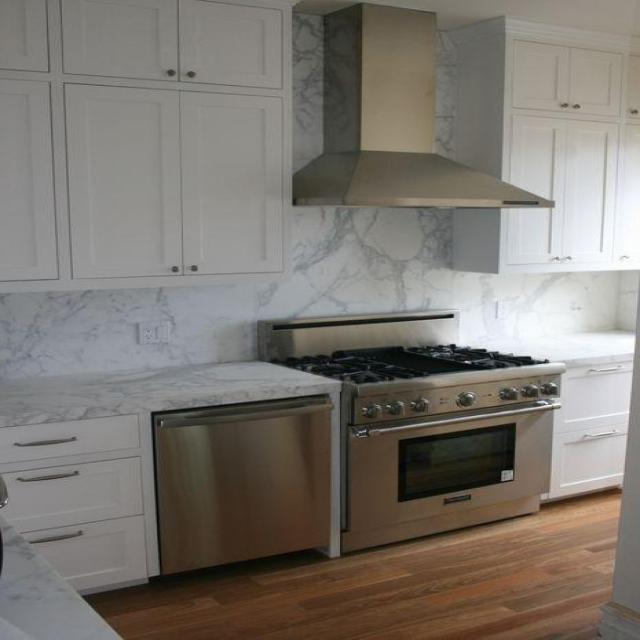dishwasher: (152, 387, 337, 572)
